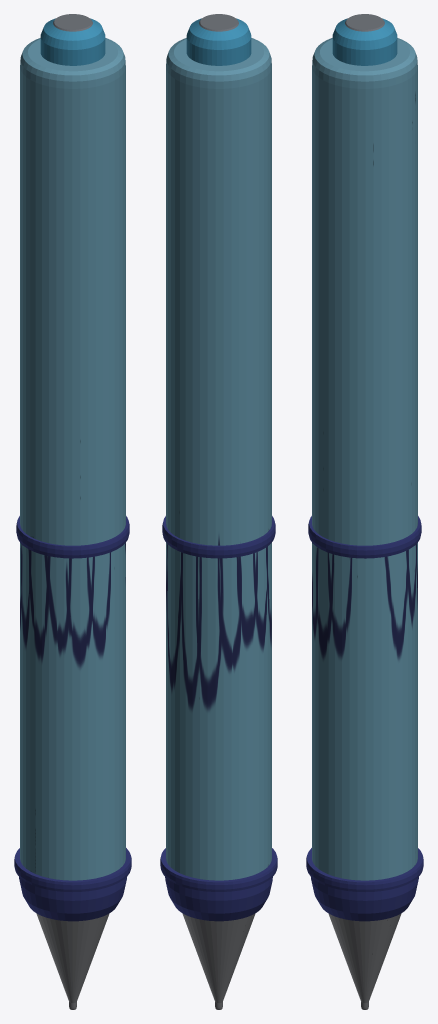
Rendered from Pen.fbx.
3 renders of one model, left to right at view 1: azimuth 30°, elevation 25°; view 2: azimuth 150°, elevation 25°; view 3: azimuth 330°, elevation 25°, orthographic.
Parts seen in each view (by area): view 1: Pen; view 2: Pen; view 3: Pen.
Part boxes in pixels (x1,y1,x2,y2): Pen: (14,14,131,1009); Pen: (160,14,277,1009); Pen: (306,14,423,1009).
Size of the model in its own units: 7.02 by 65.04 by 7.02.
